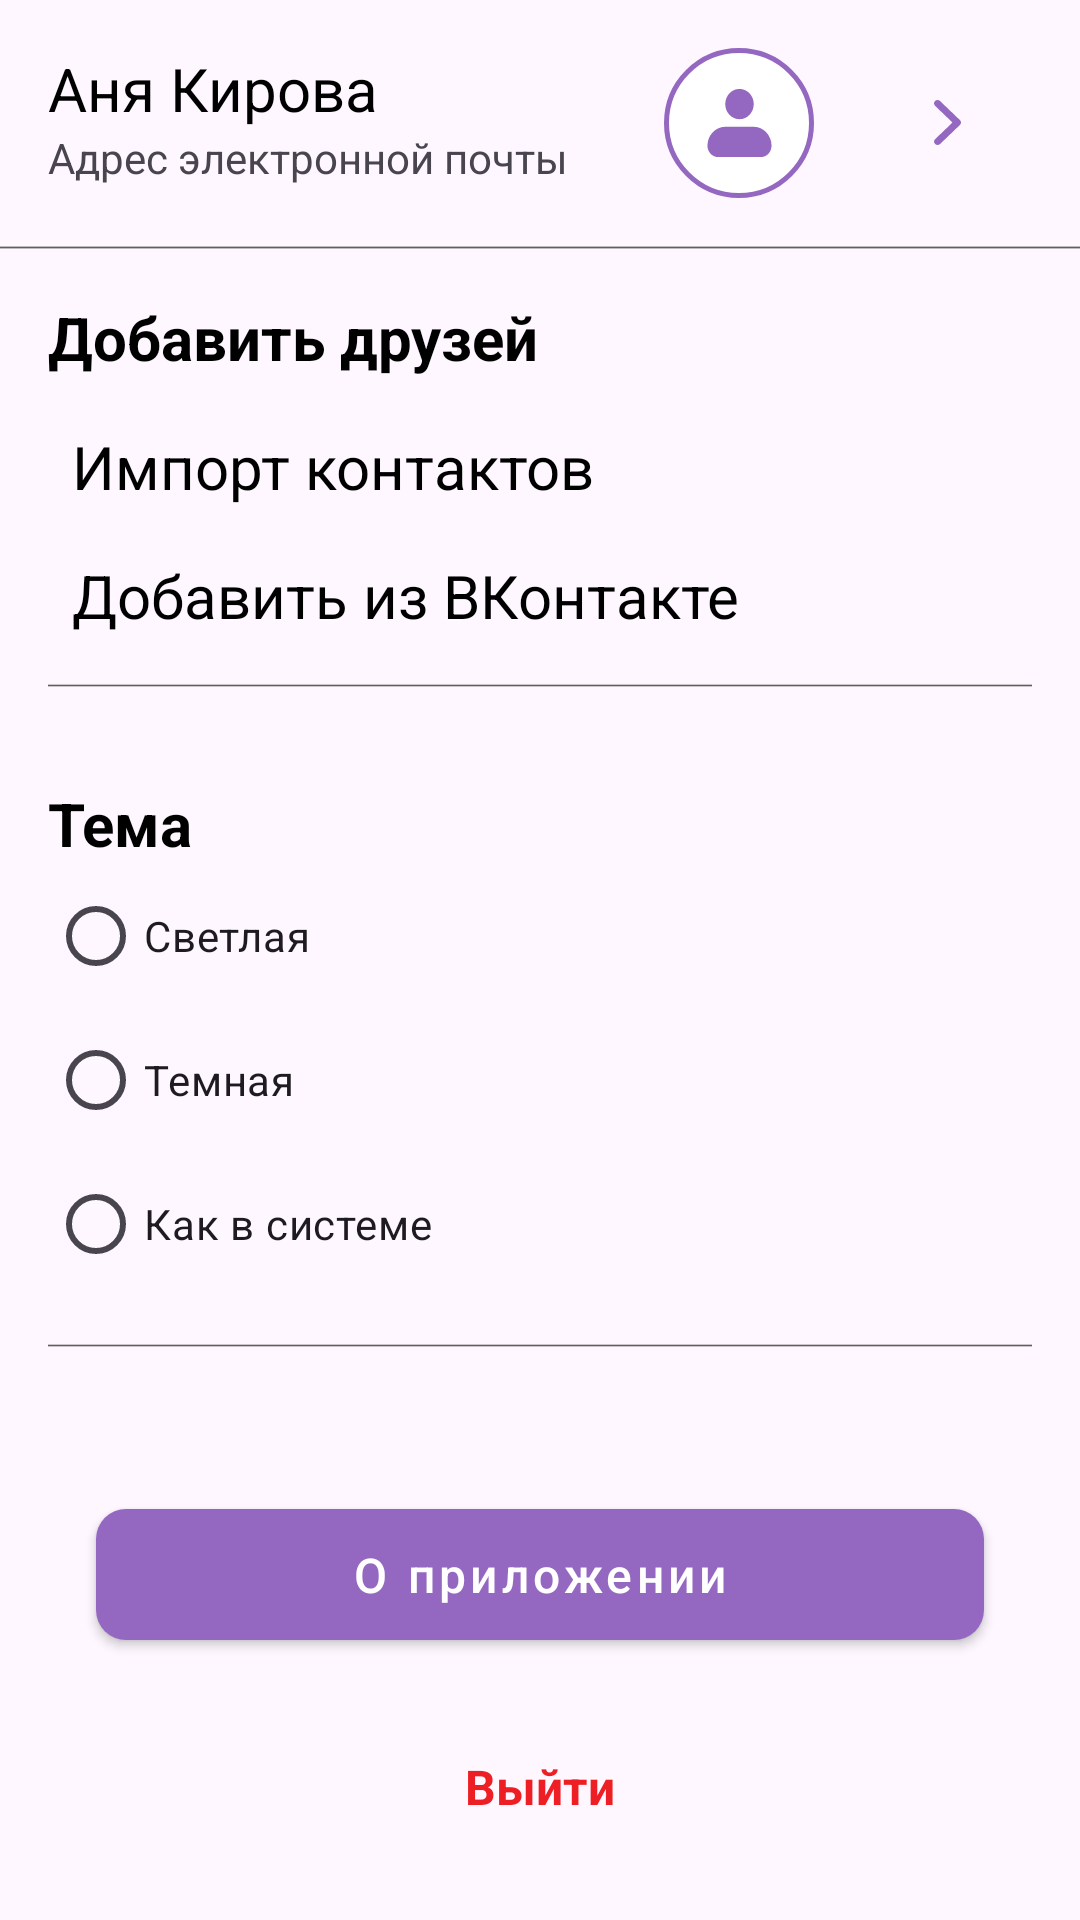

Where to tap for icons on this 1080 × 1920 app screen, as point (x, y):
arrow right: point (947, 122)
profile plug: point (739, 123)
